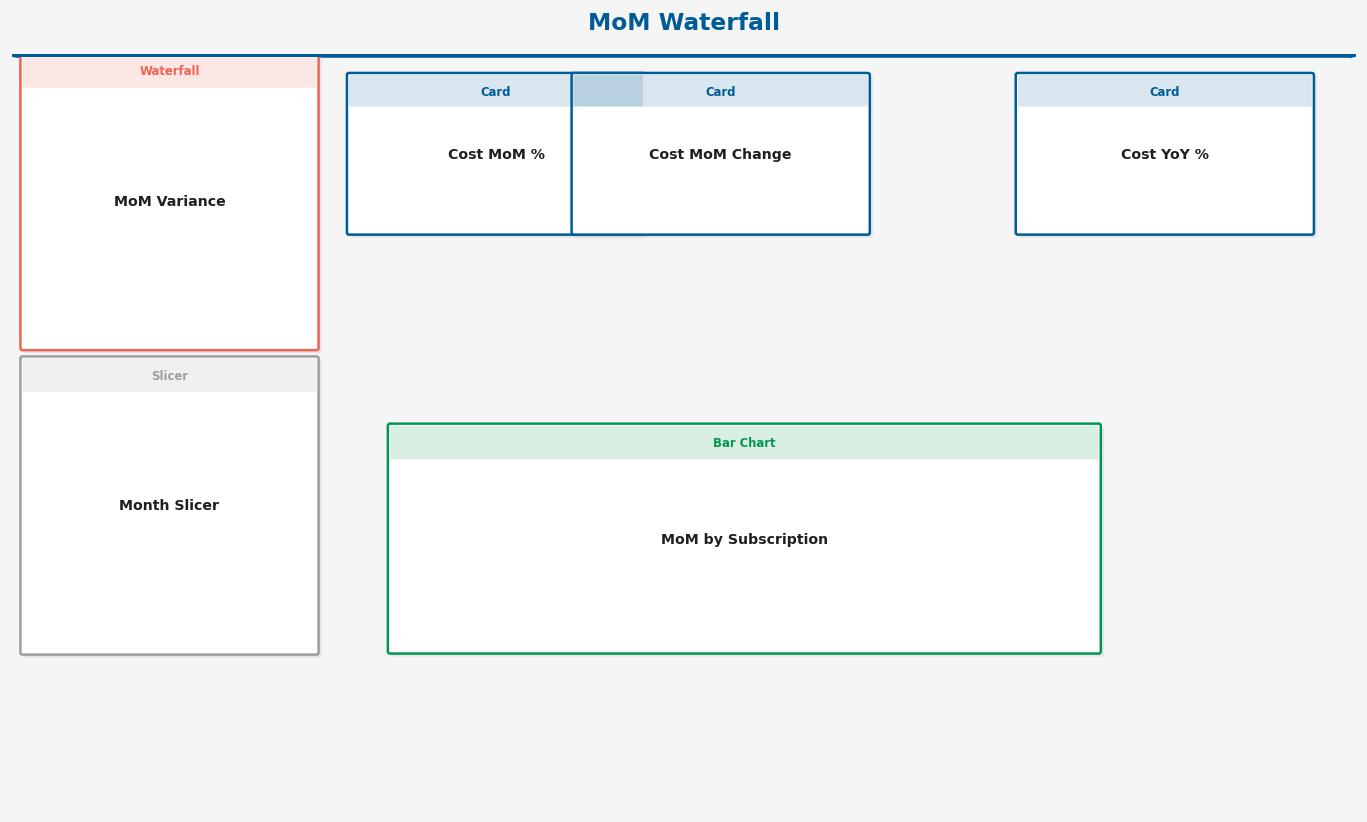

The page's visual inventory and layout, read from the dashboard file:
{"tool":"powerbi","page":{"name":"MoM Waterfall","canvas":[1280,720],"ordinal":6},"visuals":[{"type":"waterfallChart","fields":{"Category":["DateTable.MonthYear"],"Y":["CostExports.Cost MoM Change"]},"box":[10,0,280,280],"z":0},{"type":"slicer","fields":{"Values":["DateTable.MonthYear"]},"box":[10,290,280,280],"z":1},{"type":"cardVisual","fields":{"Data":["CostExports.Cost MoM %"]},"box":[321.4,20,280,150],"z":2},{"type":"cardVisual","fields":{"Data":["CostExports.Cost MoM Change"]},"box":[535.7,20,280,150],"z":3},{"type":"cardVisual","fields":{"Data":["CostExports.Cost YoY %"]},"box":[958.6,20,280,150],"z":4},{"type":"barChart","fields":{"Category":["CostExports.subscriptionName"],"Y":["CostExports.Cost MoM Change"]},"box":[360,354.3,675.7,215.7],"z":5}]}

Visuals, with their boxes in screenshot pixels (x1, y1, x2, y2):
waterfallChart - DateTable.MonthYear x CostExports.Cost MoM Change: region(18, 50, 313, 345)
slicer - DateTable.MonthYear: region(18, 355, 313, 650)
cardVisual - CostExports.Cost MoM %: region(346, 71, 641, 229)
cardVisual - CostExports.Cost MoM Change: region(571, 71, 866, 229)
cardVisual - CostExports.Cost YoY %: region(1017, 71, 1312, 229)
barChart - CostExports.subscriptionName x CostExports.Cost MoM Change: region(386, 423, 1098, 650)
